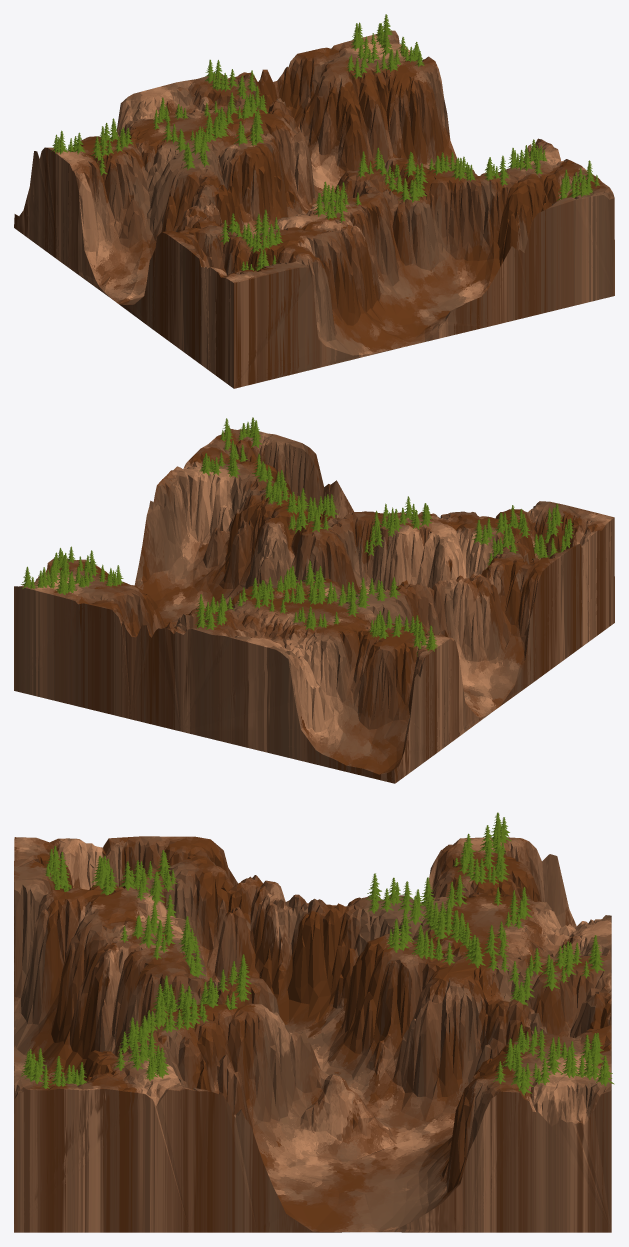
The model's file is Canyon.fbx.
The picture shows the model from 3 angles, top to bottom: view 1: azimuth 30°, elevation 25°; view 2: azimuth 150°, elevation 25°; view 3: azimuth 270°, elevation 25°; orthographic projection. The views are drawn at different scales.
Visible parts, largest first — view 1: New Project Mesh Output.001; view 2: New Project Mesh Output.001; view 3: New Project Mesh Output.001.
Boxes of the visible parts, x1,y1,x2,y2 form: New Project Mesh Output.001: (14,30,614,388); New Project Mesh Output.001: (14,428,614,783); New Project Mesh Output.001: (14,836,611,1232).
Bounding box in the file's own units: 805 × 255 × 805.
Materials: 3 (1 with a texture image).
